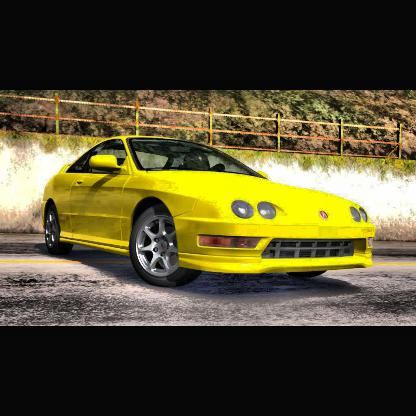Acura Integra Type R 2001: (41, 135, 378, 287)
